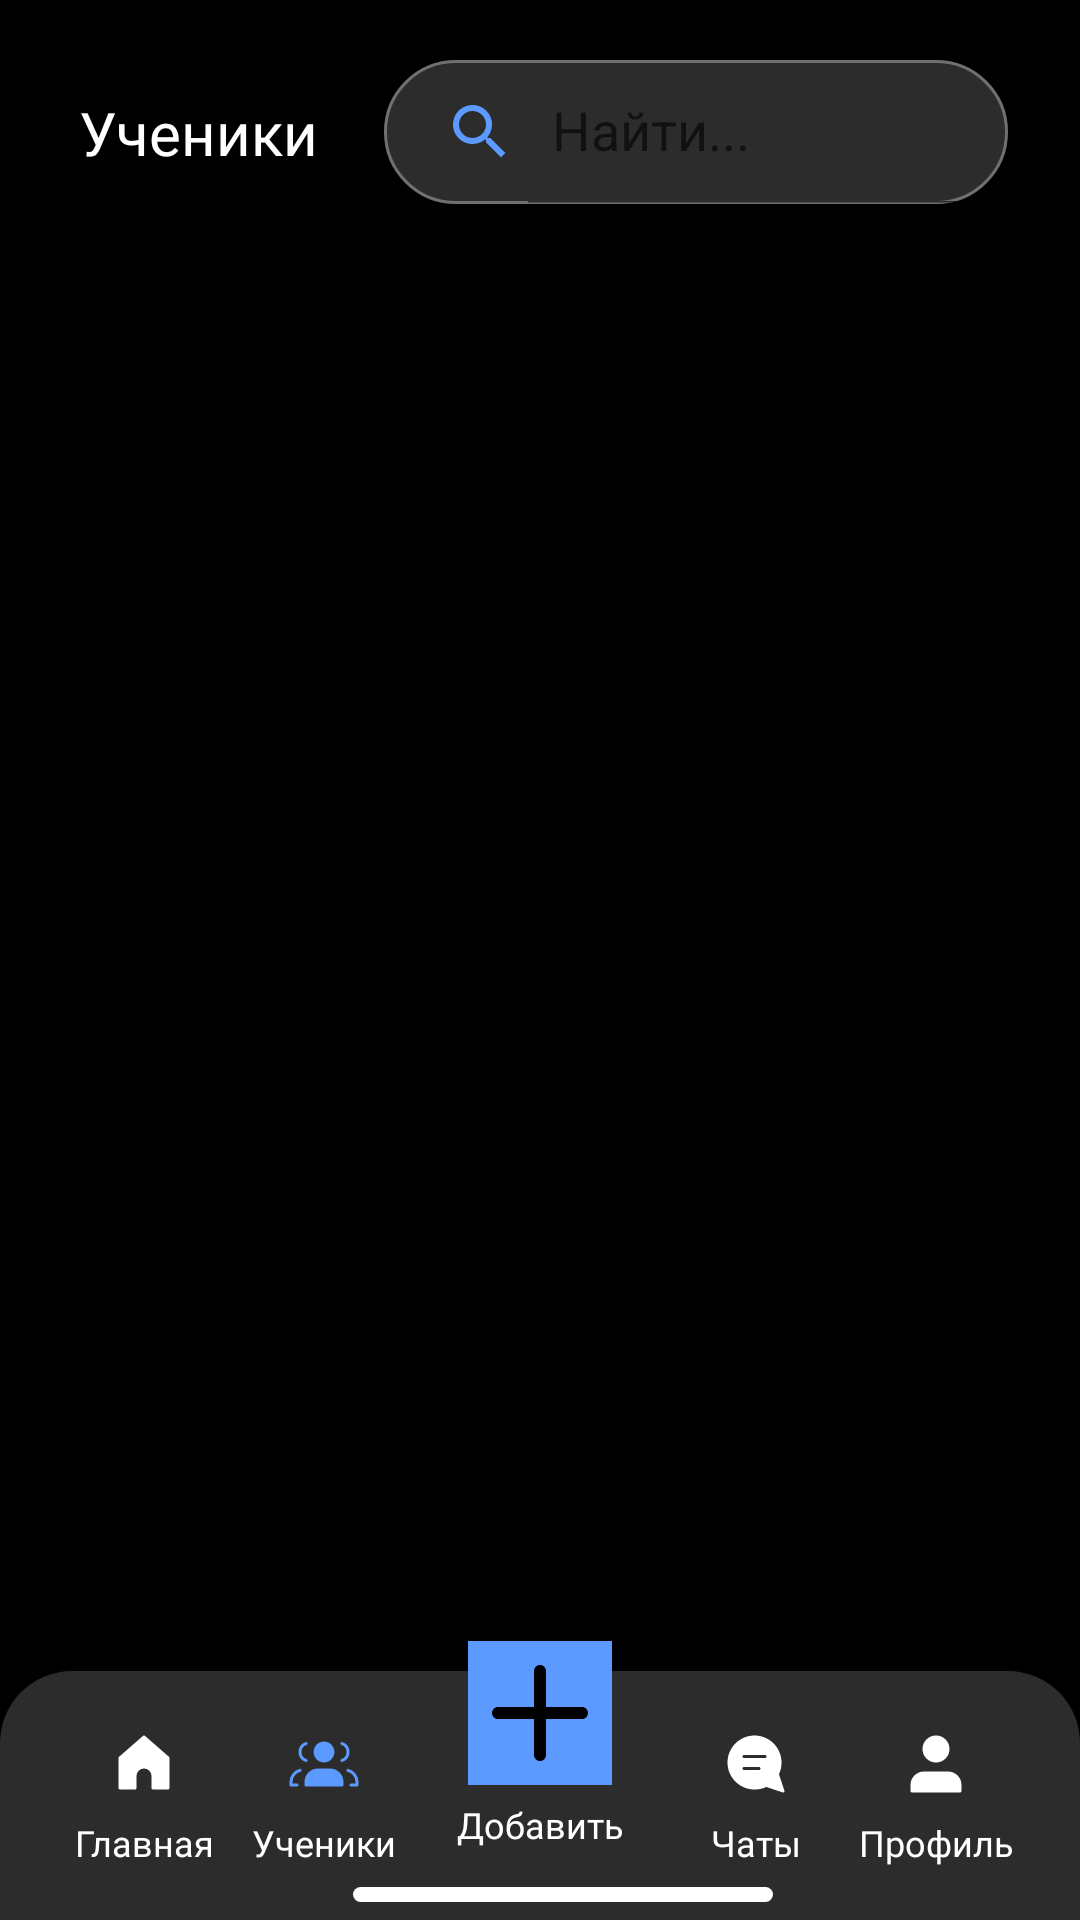

Icon bounding boxes for this 1080px x 1920px phone screenshot, format bbox(x1, y1, x2, y2):
message: bbox(727, 1735, 785, 1793)
user: bbox(910, 1735, 962, 1793)
users: bbox(289, 1741, 359, 1787)
